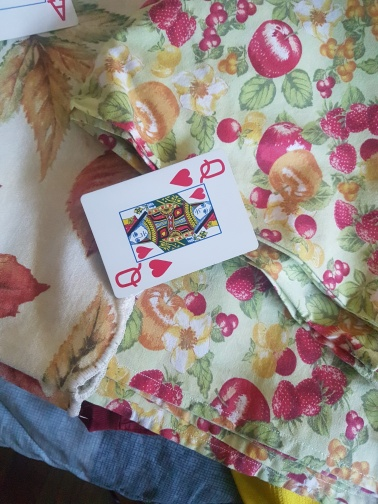queen: (81, 153, 261, 299)
